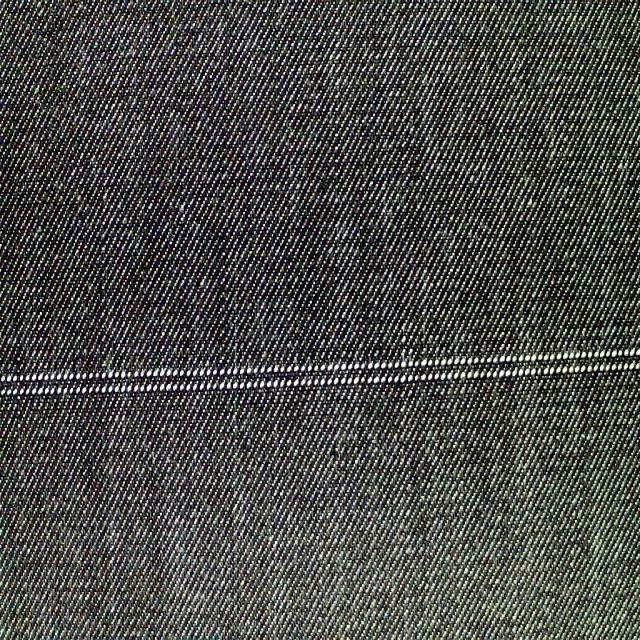Line: (0, 346, 640, 383), (0, 362, 640, 396)
